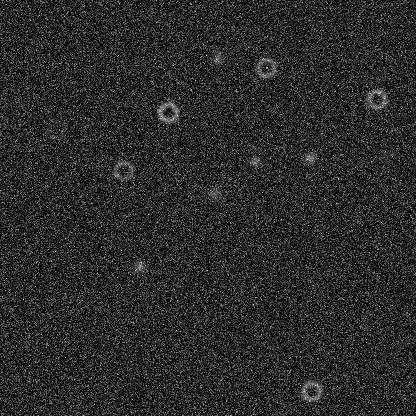Ring: (43, 117, 67, 141), (364, 87, 388, 111), (111, 158, 135, 182), (253, 55, 277, 79), (299, 379, 323, 403), (156, 100, 180, 124)
Spot: (131, 258, 147, 274), (375, 148, 391, 164), (301, 149, 317, 165), (246, 152, 262, 168), (206, 185, 222, 201), (209, 50, 225, 66)
